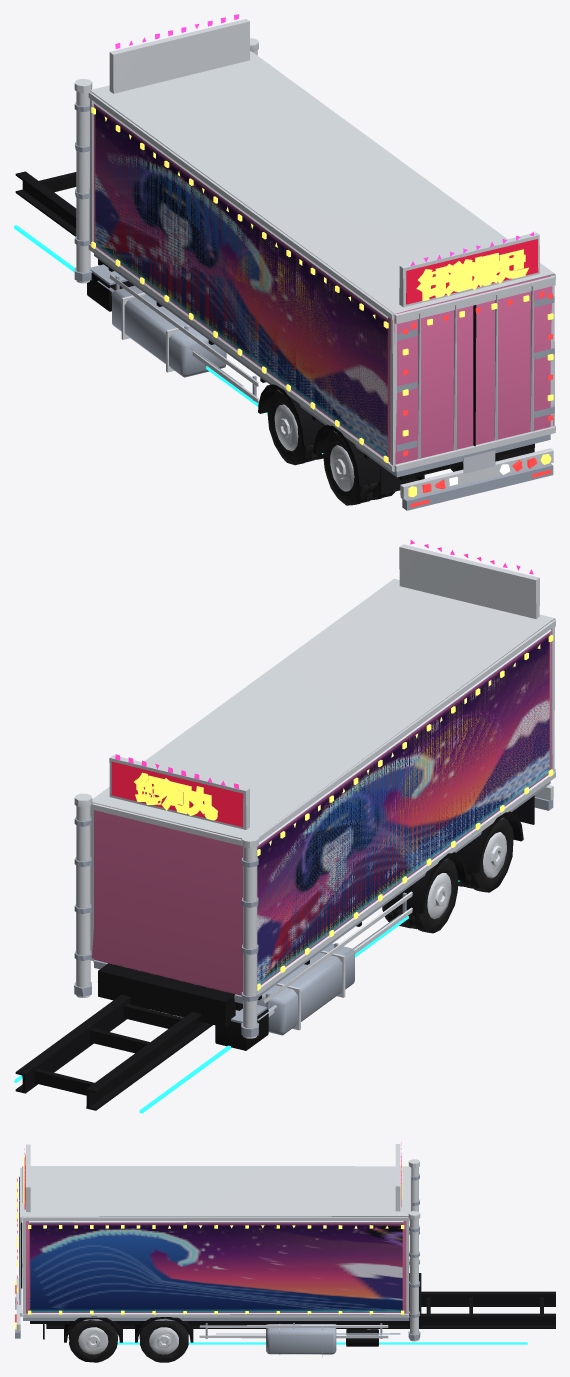
The model's file is body_pinkbox_lod1.glb.
The picture shows the model from 3 angles, top to bottom: view 1: azimuth 30°, elevation 25°; view 2: azimuth 150°, elevation 25°; view 3: azimuth 270°, elevation 25°; orthographic projection. The views are drawn at different scales.
Parts seen in each view (by area): view 1: lod1_chrome, lod1_mural, lod1_box_pink, lod1frame_plastic_black, lod1_steel, lod1frame_steel, lod1_lamp_amber, lod1_rubber_tire, lod1_andon_panel, lod1_lamp_red, lod1_rubber, lod1_plastic_black; view 2: lod1_chrome, lod1_mural, lod1_box_pink, lod1frame_plastic_black, lod1_plastic_black, lod1frame_steel, lod1_lamp_amber, lod1_rubber_tire, lod1_andon_panel, lod1_steel, lod1frame_lamp_cyan; view 3: lod1_mural, lod1_chrome, lod1frame_plastic_black, lod1_rubber_tire, lod1frame_steel, lod1_steel, lod1_box_pink, lod1frame_lamp_cyan, lod1_lamp_amber, lod1_plastic_black.
Part boxes in pixels (<box>): lod1_chrome: <box>74,19,555,499</box>; lod1_mural: <box>95,105,387,456</box>; lod1_box_pink: <box>93,104,553,464</box>; lod1frame_plastic_black: <box>15,171,534,486</box>; lod1_steel: <box>74,102,554,510</box>; lod1frame_steel: <box>90,264,244,386</box>; lod1_lamp_amber: <box>91,107,553,497</box>; lod1_rubber_tire: <box>267,390,502,505</box>; lod1_andon_panel: <box>406,239,538,304</box>; lod1_lamp_red: <box>403,291,553,507</box>; lod1_rubber: <box>380,448,534,494</box>; lod1_plastic_black: <box>98,259,476,458</box>; lod1_chrome: <box>74,544,555,1038</box>; lod1_mural: <box>257,632,549,983</box>; lod1_box_pink: <box>92,629,551,995</box>; lod1frame_plastic_black: <box>15,811,523,1110</box>; lod1_plastic_black: <box>98,808,517,1027</box>; lod1frame_steel: <box>97,914,401,1035</box>; lod1_lamp_amber: <box>134,635,553,990</box>; lod1_rubber_tire: <box>382,818,513,933</box>; lod1_andon_panel: <box>111,761,243,827</box>; lod1_steel: <box>74,781,553,1037</box>; lod1frame_lamp_cyan: <box>14,880,459,1113</box>; lod1_mural: <box>29,1222,402,1312</box>; lod1_chrome: <box>16,1144,420,1354</box>; lod1frame_plastic_black: <box>30,1291,555,1346</box>; lod1_rubber_tire: <box>68,1320,188,1362</box>; lod1frame_steel: <box>216,1324,400,1354</box>; lod1_steel: <box>15,1174,420,1340</box>; lod1_box_pink: <box>26,1221,406,1313</box>; lod1frame_lamp_cyan: <box>117,1342,527,1344</box>; lod1_lamp_amber: <box>15,1154,404,1329</box>; lod1_plastic_black: <box>21,1222,421,1328</box>.
Bounding box in the file's own units: 2.87 × 4.16 × 11.48.
Materials: 15 (2 with a texture image).
